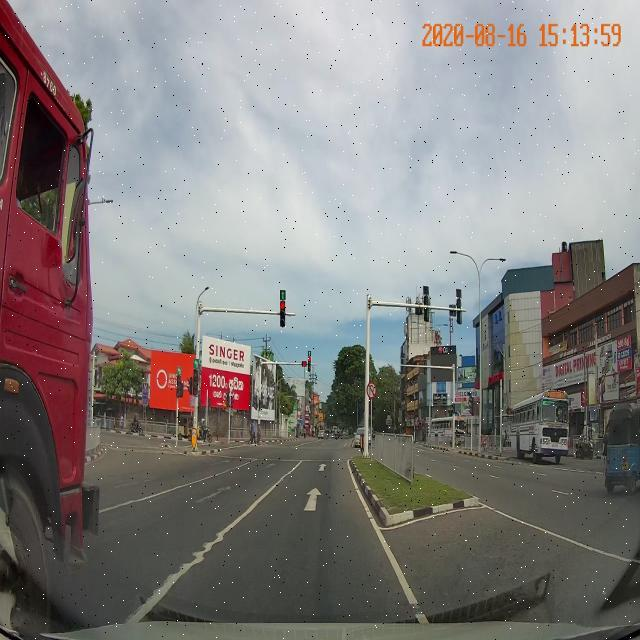forward: (230, 479, 375, 519), (281, 461, 354, 474)
